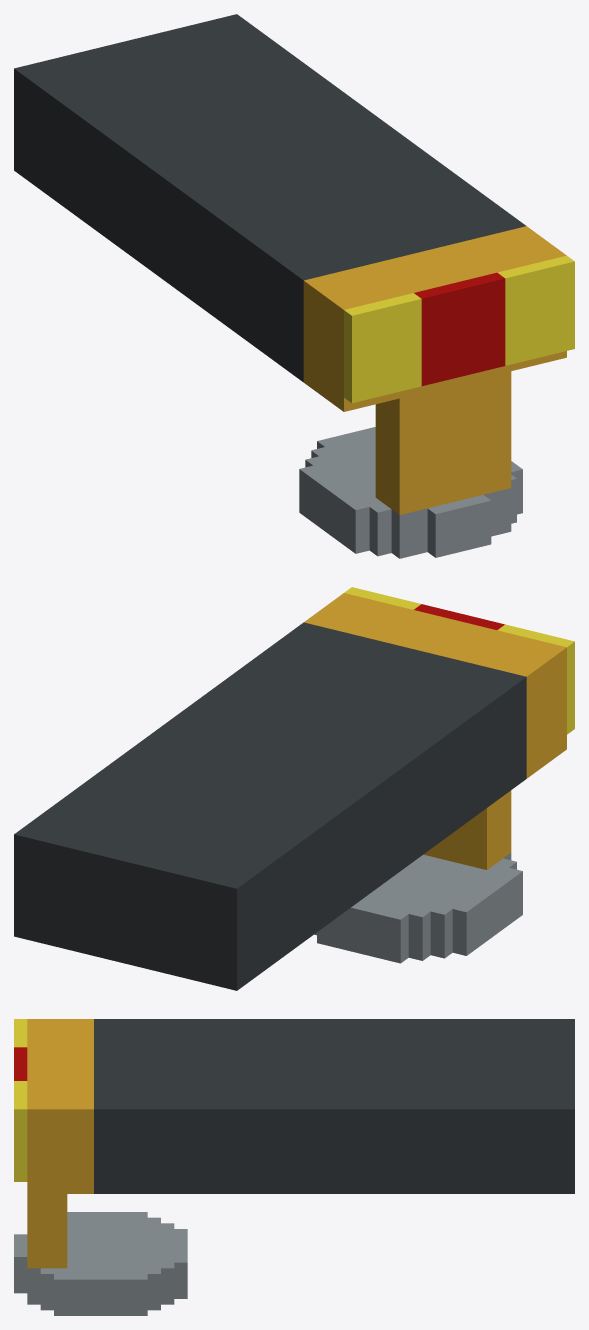
The model's file is mobile_crane_outrigger.glb.
3 renders of one model, top to bottom at view 1: azimuth 30°, elevation 25°; view 2: azimuth 150°, elevation 25°; view 3: azimuth 270°, elevation 25°, orthographic. The views are drawn at different scales.
Parts seen in each view (by area): view 1: body:compound; view 2: body:compound; view 3: body:compound.
Boxes of the visible parts, <box> form: body:compound: <box>14,14,574,558</box>; body:compound: <box>14,587,574,990</box>; body:compound: <box>14,1019,574,1315</box>.
Size of the model in its own units: 0.5 by 0.5625 by 1.31.
